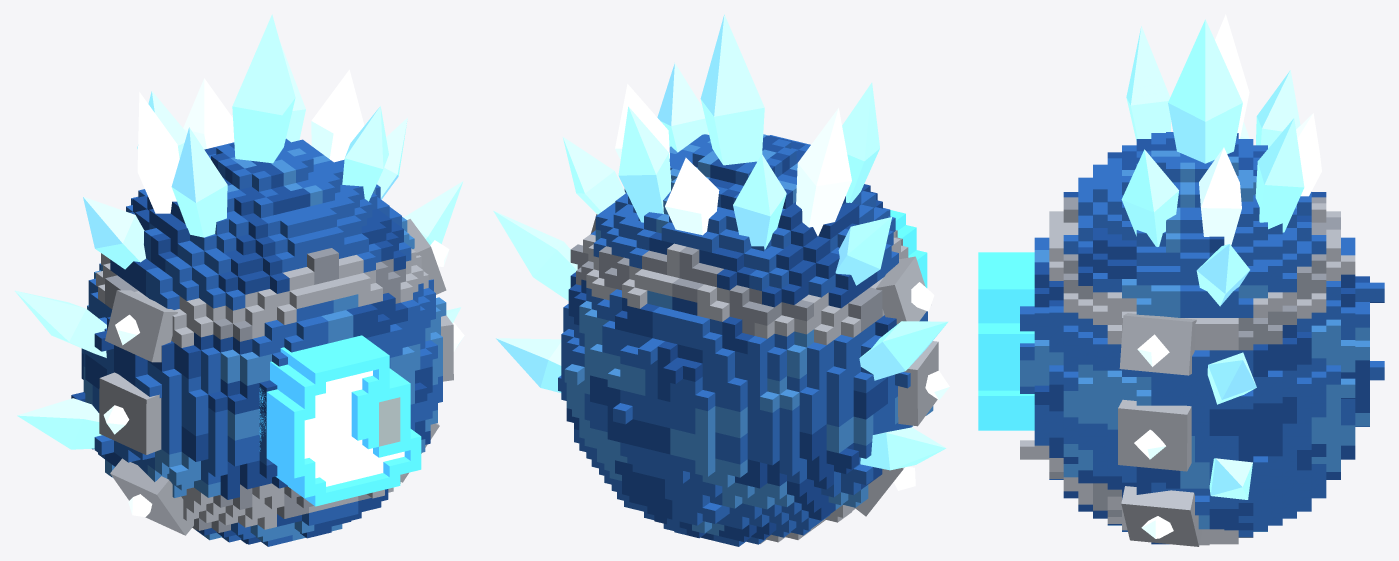
Rendered from RareWildEgg.fbx.
3 views of the same model, side by side, from view 1: azimuth 30°, elevation 25°; view 2: azimuth 150°, elevation 25°; view 3: azimuth 270°, elevation 25° (orthographic). The views are drawn at different scales.
Visible parts, largest first — view 1: RareWild_Body__RareWild_Shell, RareWild_Crystals__RareWild_Ice, RareWild_Body__RareWild_ShellDark, RareWild_Emblem__RareWild_MoonOutline, RareWild_Body__RareWild_Armor, RareWild_Armor__RareWild_Armor, RareWild_Body__RareWild_ShellLight, RareWild_Crystals__RareWild_IceLight, RareWild_Emblem__RareWild_Moon, RareWild_Body__RareWild_ArmorDark, RareWild_ArmorGems__RareWild_IceLight, RareWild_Emblem__RareWild_MoonCore; view 2: RareWild_Body__RareWild_Shell, RareWild_Crystals__RareWild_Ice, RareWild_Body__RareWild_ShellDark, RareWild_Body__RareWild_ShellLight, RareWild_Crystals__RareWild_IceLight, RareWild_Body__RareWild_Armor, RareWild_Body__RareWild_ArmorDark, RareWild_Armor__RareWild_Armor, RareWild_ArmorGems__RareWild_IceLight, RareWild_Emblem__RareWild_MoonOutline; view 3: RareWild_Body__RareWild_Shell, RareWild_Crystals__RareWild_Ice, RareWild_Body__RareWild_ShellDark, RareWild_Body__RareWild_ShellLight, RareWild_Armor__RareWild_Armor, RareWild_Body__RareWild_Armor, RareWild_Emblem__RareWild_MoonOutline, RareWild_Crystals__RareWild_IceLight, RareWild_Body__RareWild_ArmorDark, RareWild_ArmorGems__RareWild_IceLight.
Part boxes in pixels (bbox=[...]): RareWild_Body__RareWild_Shell: bbox=[81, 138, 442, 546]; RareWild_Crystals__RareWild_Ice: bbox=[15, 14, 463, 449]; RareWild_Body__RareWild_ShellDark: bbox=[71, 143, 432, 544]; RareWild_Emblem__RareWild_MoonOutline: bbox=[259, 335, 421, 506]; RareWild_Body__RareWild_Armor: bbox=[96, 248, 428, 529]; RareWild_Armor__RareWild_Armor: bbox=[99, 219, 453, 535]; RareWild_Body__RareWild_ShellLight: bbox=[83, 148, 446, 541]; RareWild_Crystals__RareWild_IceLight: bbox=[137, 69, 364, 213]; RareWild_Emblem__RareWild_Moon: bbox=[304, 370, 404, 486]; RareWild_Body__RareWild_ArmorDark: bbox=[105, 248, 405, 532]; RareWild_ArmorGems__RareWild_IceLight: bbox=[103, 240, 464, 516]; RareWild_Emblem__RareWild_MoonCore: bbox=[379, 397, 400, 446]; RareWild_Body__RareWild_Shell: bbox=[558, 134, 927, 546]; RareWild_Crystals__RareWild_Ice: bbox=[493, 14, 948, 470]; RareWild_Body__RareWild_ShellDark: bbox=[566, 135, 896, 541]; RareWild_Body__RareWild_ShellLight: bbox=[564, 134, 933, 535]; RareWild_Crystals__RareWild_IceLight: bbox=[615, 84, 851, 235]; RareWild_Body__RareWild_Armor: bbox=[583, 231, 908, 543]; RareWild_Body__RareWild_ArmorDark: bbox=[570, 230, 902, 529]; RareWild_Armor__RareWild_Armor: bbox=[591, 214, 938, 516]; RareWild_ArmorGems__RareWild_IceLight: bbox=[894, 282, 949, 490]; RareWild_Emblem__RareWild_MoonOutline: bbox=[890, 210, 927, 287]; RareWild_Body__RareWild_Shell: bbox=[1020, 132, 1384, 544]; RareWild_Crystals__RareWild_Ice: bbox=[1121, 19, 1304, 499]; RareWild_Body__RareWild_ShellDark: bbox=[1034, 133, 1384, 544]; RareWild_Body__RareWild_ShellLight: bbox=[1020, 150, 1369, 531]; RareWild_Armor__RareWild_Armor: bbox=[1118, 313, 1201, 546]; RareWild_Body__RareWild_Armor: bbox=[1020, 203, 1355, 545]; RareWild_Emblem__RareWild_MoonOutline: bbox=[978, 252, 1034, 430]; RareWild_Crystals__RareWild_IceLight: bbox=[1199, 14, 1321, 245]; RareWild_Body__RareWild_ArmorDark: bbox=[1049, 197, 1340, 537]; RareWild_ArmorGems__RareWild_IceLight: bbox=[1134, 334, 1173, 538].
Bounding box in the file's own units: 254 × 270 × 195.
